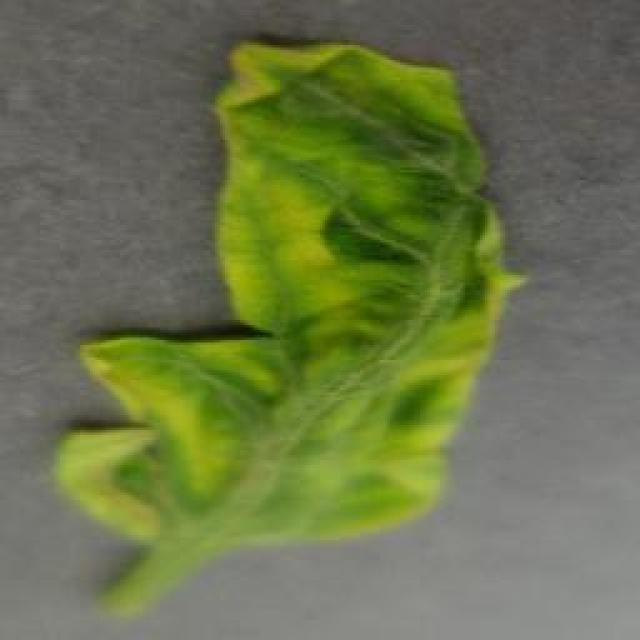Tomato yellow virus leaf: (51, 33, 514, 555)
